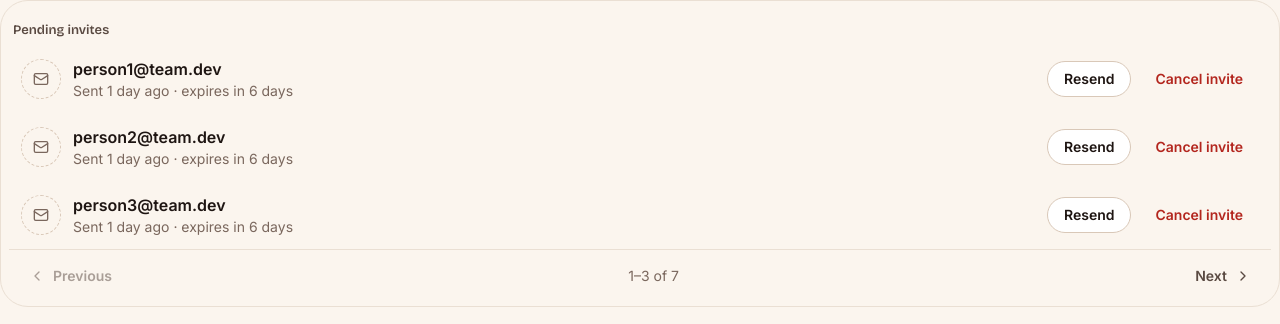
Scenario: PendingInvites: three at a time › pages through more with Previous and Next, disabled at the ends
expect the message reads "1–3 of 7": met, box [628, 266, 679, 286]
expect the button "Previous" is disabled: met, box [13, 258, 128, 294]
Click the button "Next". click: (1223, 276)
box: [1179, 258, 1267, 294]
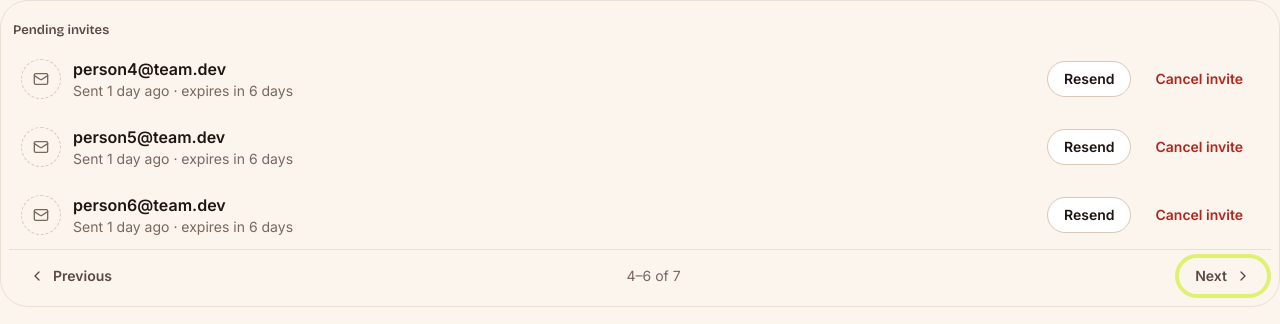
expect the message reads "4–6 of 7": met, box [626, 266, 681, 286]
Click the button "Next". click: (1223, 276)
box: [1179, 258, 1267, 294]
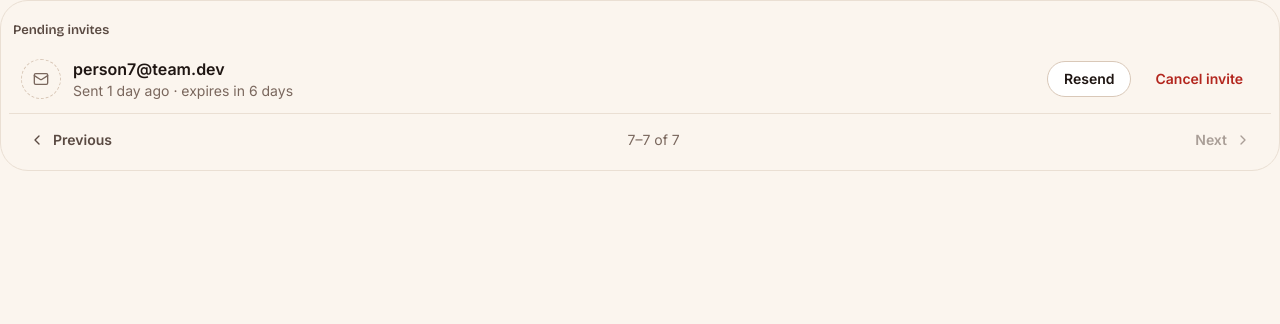
expect the message reads "7–7 of 7": met, box [628, 130, 680, 150]
expect the button "Next" is disabled: met, box [1179, 122, 1267, 158]
Click the button "Previous". click: (70, 140)
box: [13, 122, 128, 158]
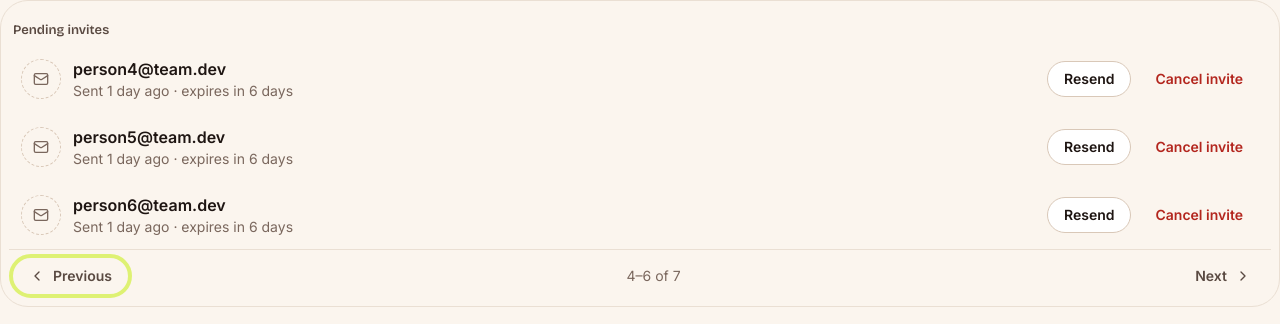
expect the message reads "4–6 of 7": met, box [626, 266, 681, 286]
